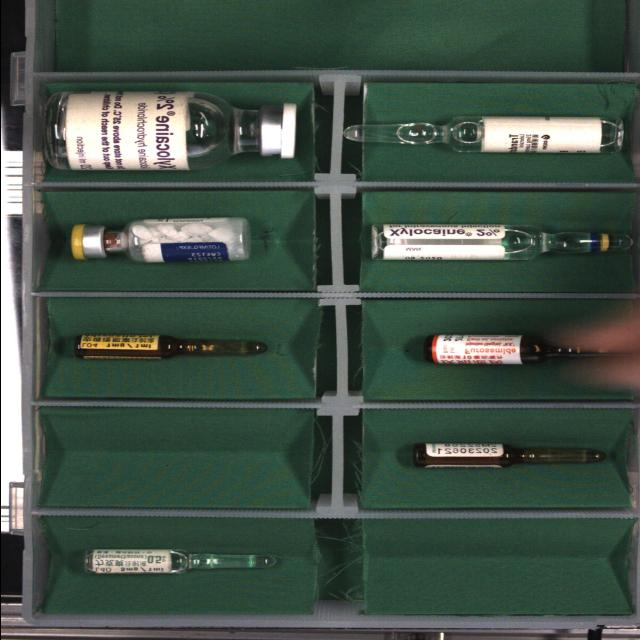Vials: (45, 91, 296, 171), (71, 218, 249, 263)
